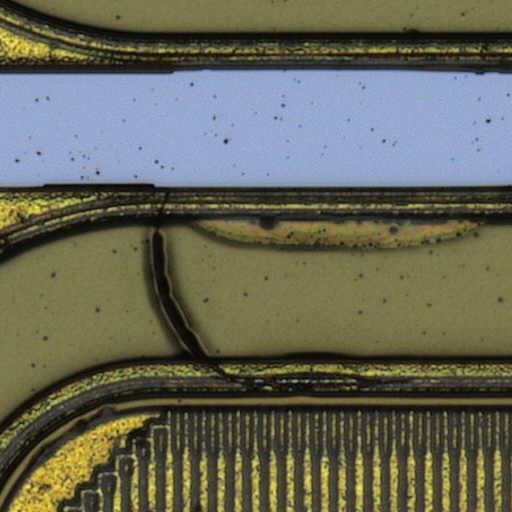PO CONTAMINATION: (8, 1, 512, 396)
